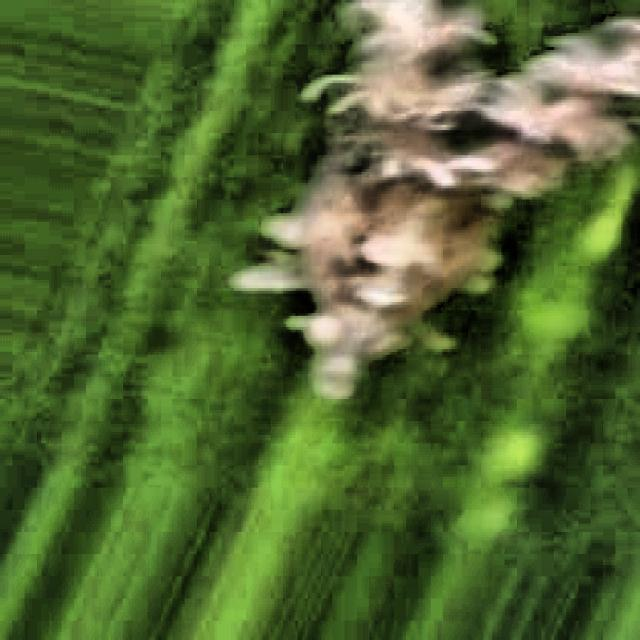Pyrilla-perpusilla: (254, 0, 632, 398)
